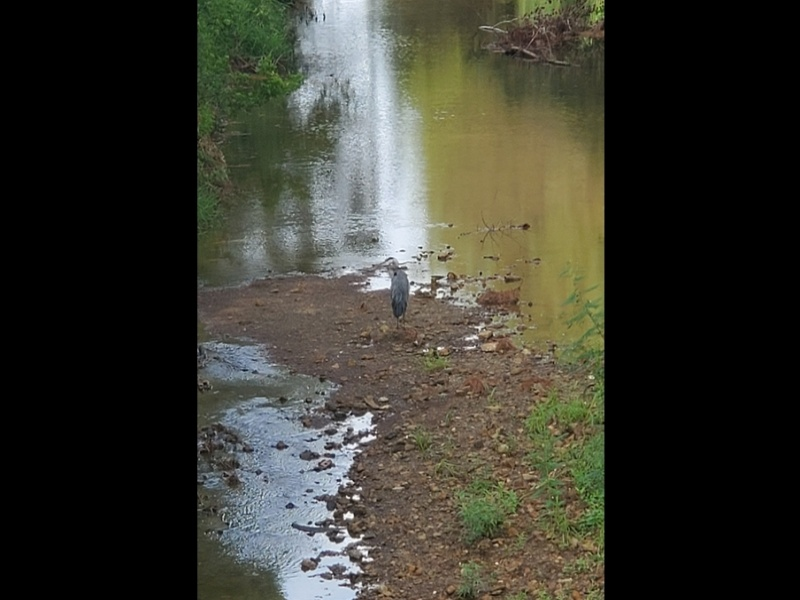heron: (383, 254, 413, 329)
